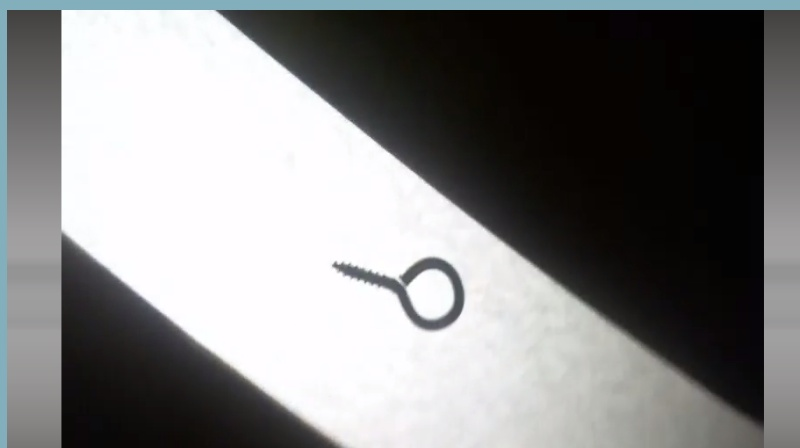O001: (326, 251, 465, 332)
